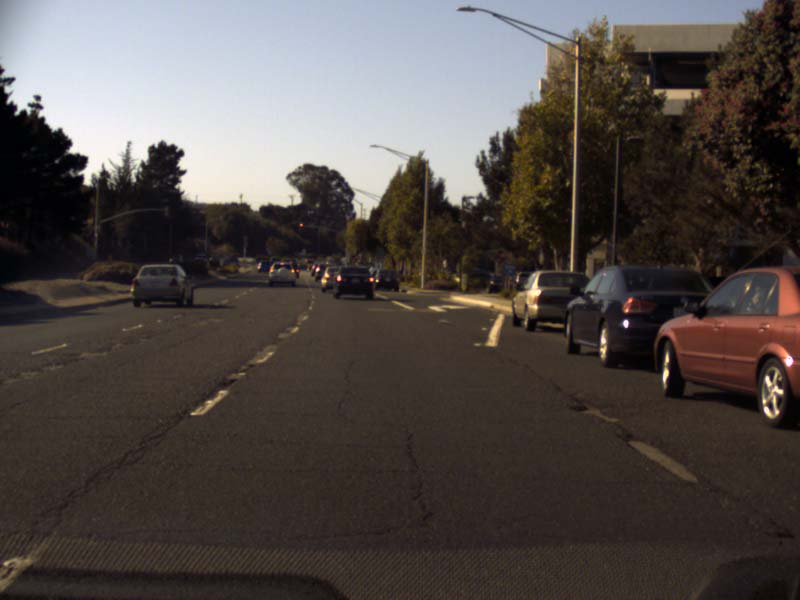Yellow: (298, 222, 303, 229)
